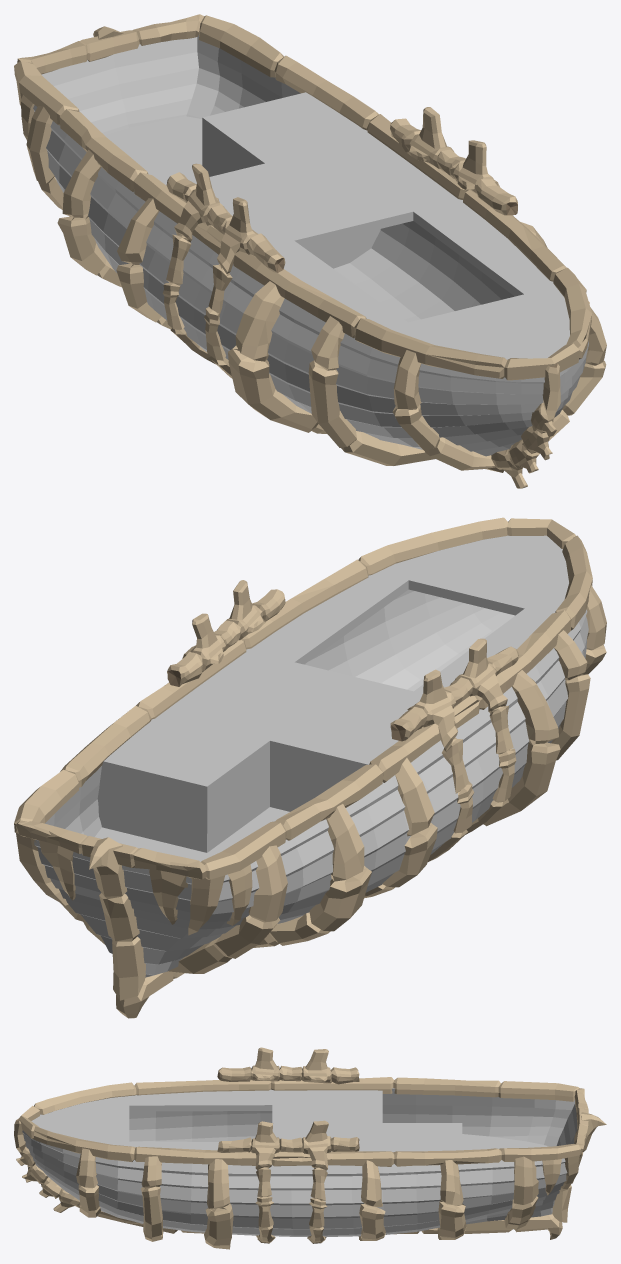
The model's file is SM_Veh_Ship_S_Hull_02.fbx.
3 views of the same model, one above another, from view 1: azimuth 30°, elevation 25°; view 2: azimuth 150°, elevation 25°; view 3: azimuth 270°, elevation 25° (orthographic). The views are drawn at different scales.
Visible parts, largest first — view 1: SM_Veh_Ship_S_Hull_02; view 2: SM_Veh_Ship_S_Hull_02; view 3: SM_Veh_Ship_S_Hull_02.
Part boxes in pixels (left/top/right/bottom): SM_Veh_Ship_S_Hull_02: left=14, top=14, right=606, bottom=488; SM_Veh_Ship_S_Hull_02: left=14, top=517, right=606, bottom=1018; SM_Veh_Ship_S_Hull_02: left=14, top=1047, right=606, bottom=1249.
Bounding box in the file's own units: 696 × 501 × 1747.
